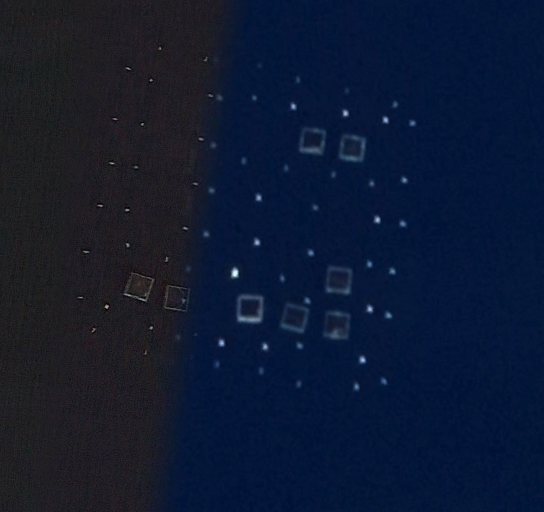square: (117, 265, 159, 305), (151, 277, 194, 314), (228, 288, 268, 327), (291, 122, 332, 158), (275, 297, 312, 335), (321, 262, 361, 295), (320, 307, 355, 344), (334, 128, 368, 163)
